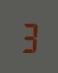three: (19, 20, 37, 53)
